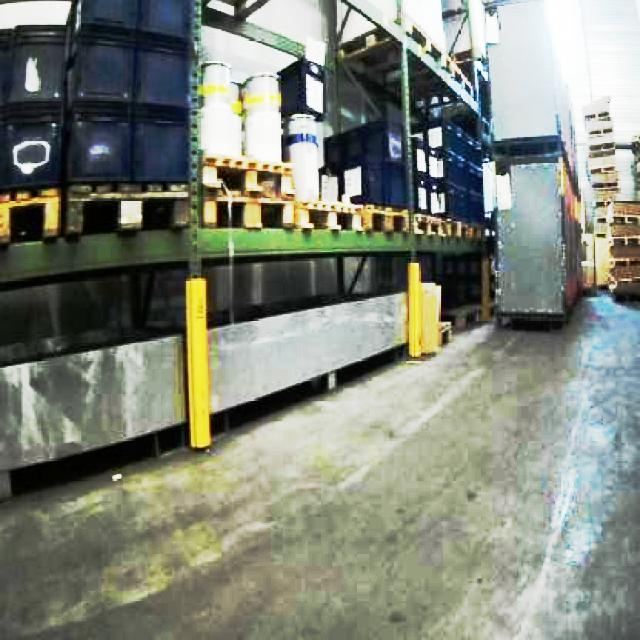ground: (0, 286, 638, 638)
pallet: (0, 152, 486, 254), (580, 92, 638, 303), (606, 195, 638, 298)
